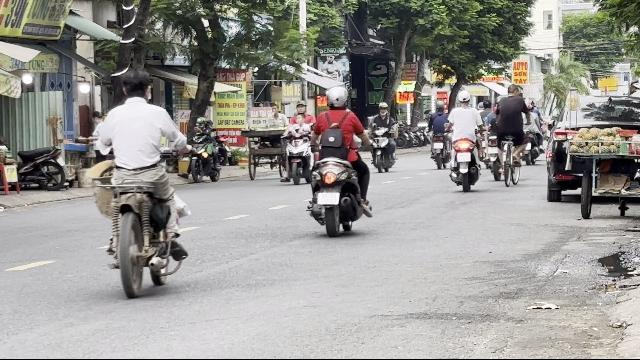helmet: (324, 85, 348, 109)
licenseplate: (318, 192, 339, 204)
motorcyclist: (85, 68, 191, 296), (304, 84, 374, 236)
nohelmet: (117, 69, 153, 103)
